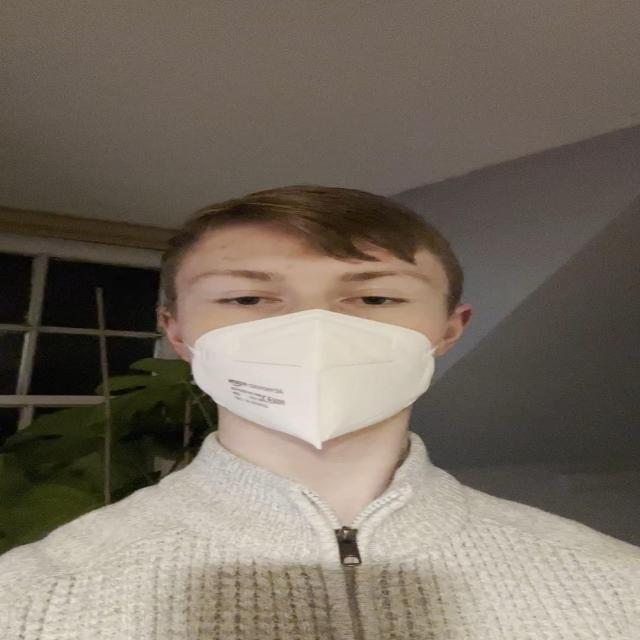no-helmet: (174, 215, 451, 447)
